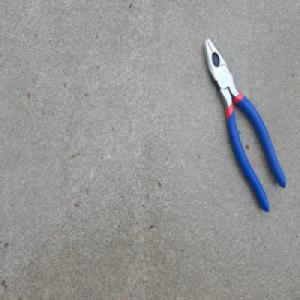Pliers: (201, 36, 286, 214)
